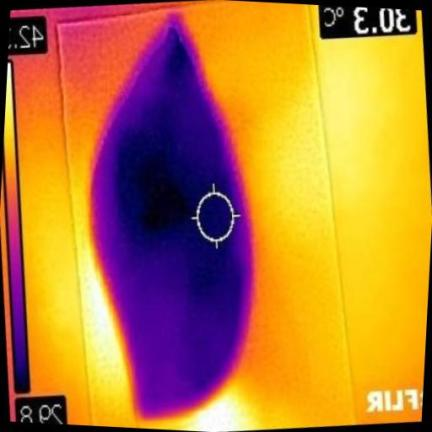mango: (92, 22, 251, 417)
